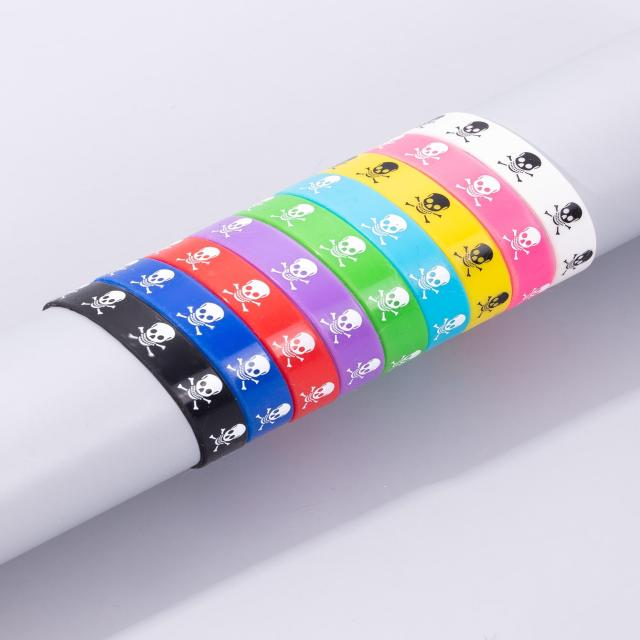bracelet: (24, 56, 640, 477)
